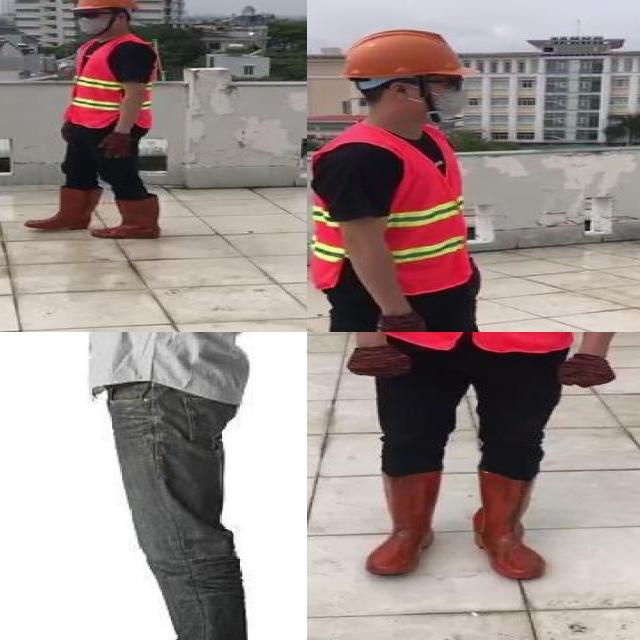boots: (469, 467, 543, 578), (364, 473, 435, 576), (26, 188, 104, 232), (95, 198, 164, 238)
face_mask: (414, 72, 476, 120), (72, 10, 109, 34)
glasses: (432, 73, 467, 92), (69, 8, 103, 22)
hand_glove: (350, 345, 412, 377), (554, 356, 616, 387), (373, 315, 428, 332), (98, 133, 130, 160), (475, 261, 485, 291)
head_helmet: (338, 28, 482, 82), (74, 0, 140, 11)
person: (307, 25, 591, 332), (318, 332, 640, 584), (46, 332, 265, 640), (22, 0, 175, 241)
vest: (309, 130, 471, 293), (63, 41, 155, 131)
